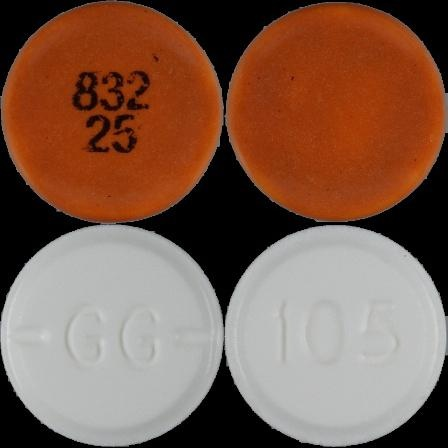24236-181: (0, 0, 224, 224)
